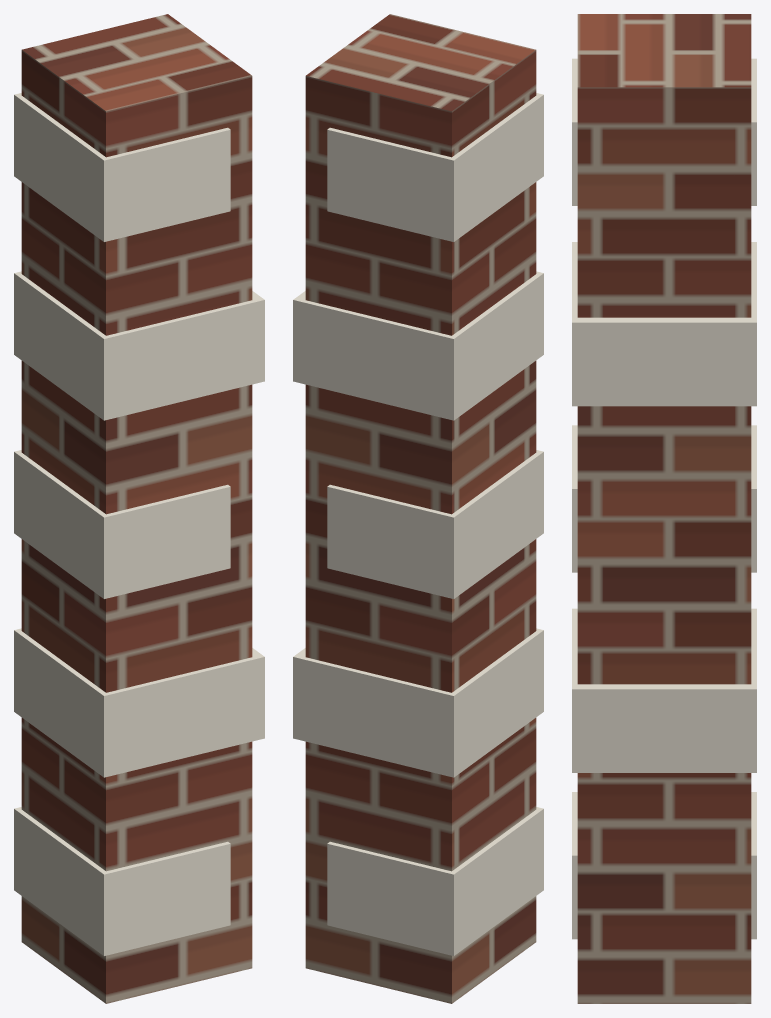
The model's file is ct_corner.glb.
3 renders of one model, left to right at view 1: azimuth 30°, elevation 25°; view 2: azimuth 150°, elevation 25°; view 3: azimuth 270°, elevation 25°, orthographic. The views are drawn at different scales.
Visible parts, largest first — view 1: city_ct_corner; view 2: city_ct_corner; view 3: city_ct_corner.
Boxes of the visible parts, <box> form: city_ct_corner: <box>14,14,264,1003</box>; city_ct_corner: <box>293,14,543,1003</box>; city_ct_corner: <box>572,14,756,1003</box>.
Bounding box in the file's own units: 0.66 × 3.5 × 0.64.
Materials: 2 (2 with a texture image).
